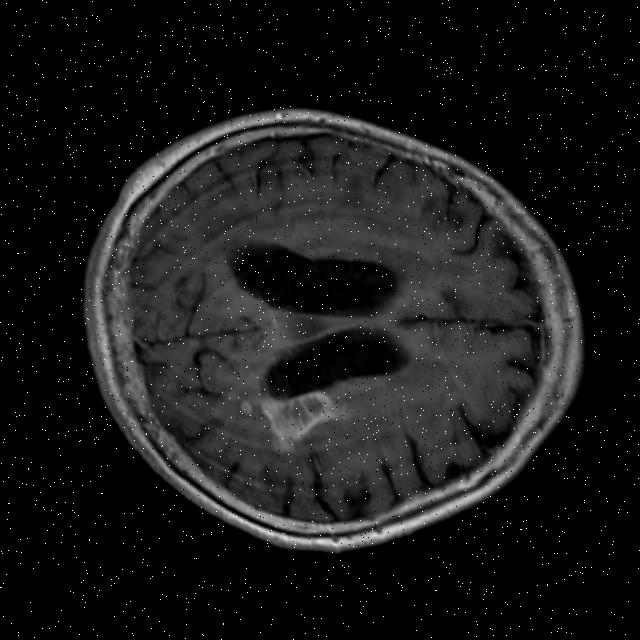Glioma: (257, 380, 357, 459)
